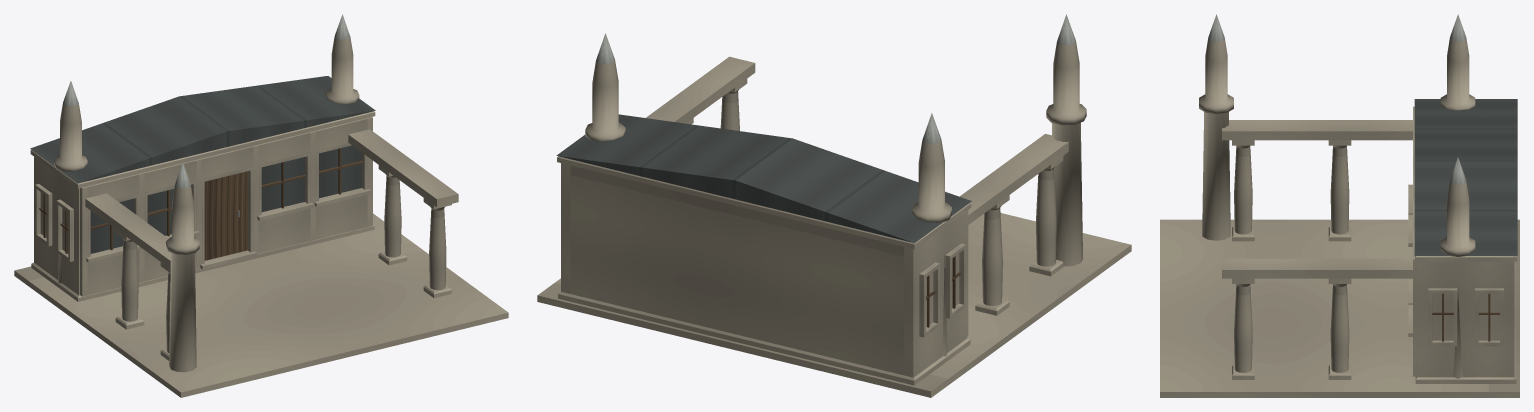
The picture shows the model from 3 angles, left to right: view 1: azimuth 30°, elevation 25°; view 2: azimuth 150°, elevation 25°; view 3: azimuth 270°, elevation 25°; orthographic projection. The views are drawn at different scales.
Visible parts, largest first — view 1: damascus; view 2: damascus; view 3: damascus.
Boxes of the visible parts, box(x1,y1,x2,y2) form: damascus: box(14, 14, 508, 397); damascus: box(537, 14, 1131, 397); damascus: box(1160, 14, 1519, 397).
Bounding box in the file's own units: 7.6 × 4.65 × 6.7.
Materials: 1 (1 with a texture image).
